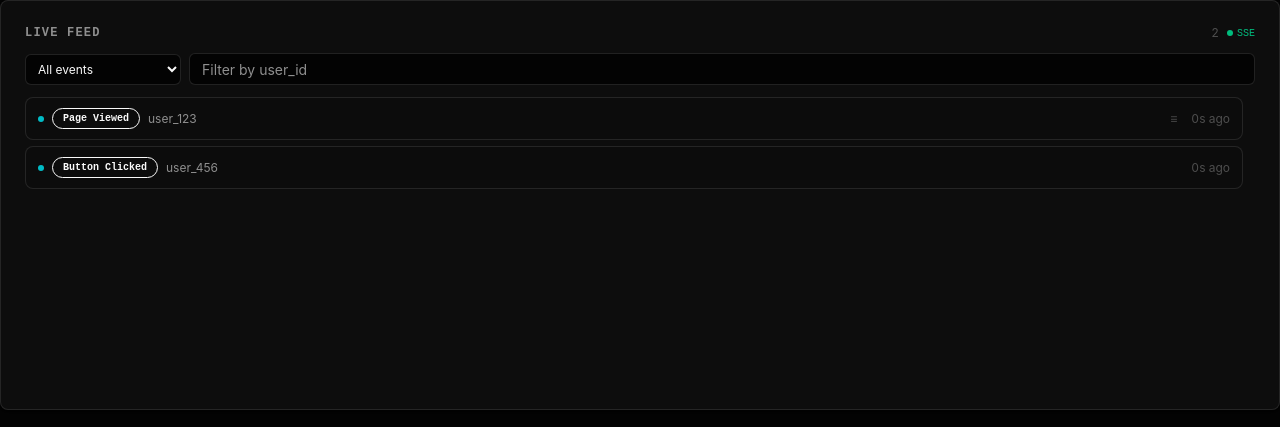
Scenario: EventFeed › collapses properties when toggle button is clicked again
The image size is (1280, 427).
Click the button named "Toggle properties".
click(1174, 118)  # box [1164,108,1183,128]
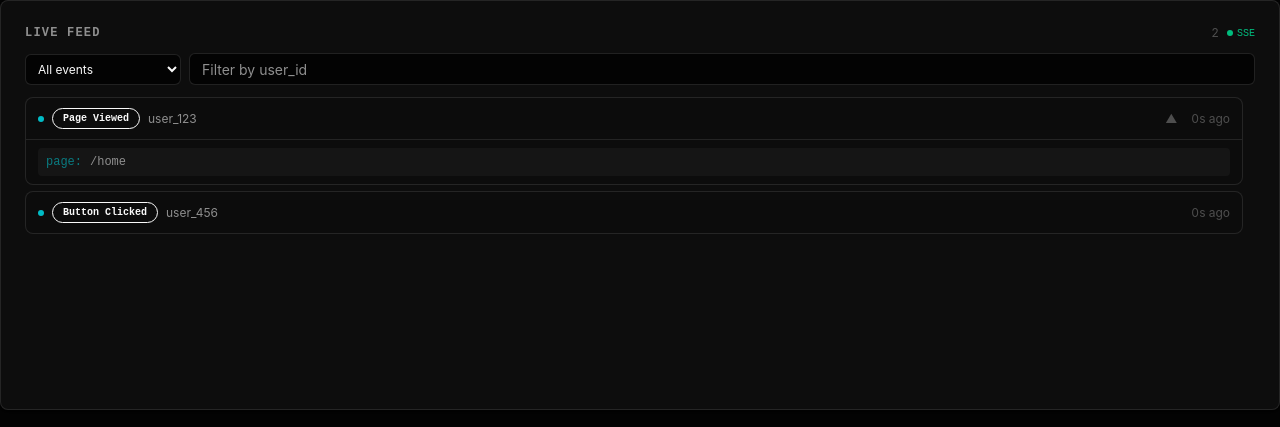
Click the button named "Toggle properties".
click(1171, 118)  # box [1159,108,1183,128]
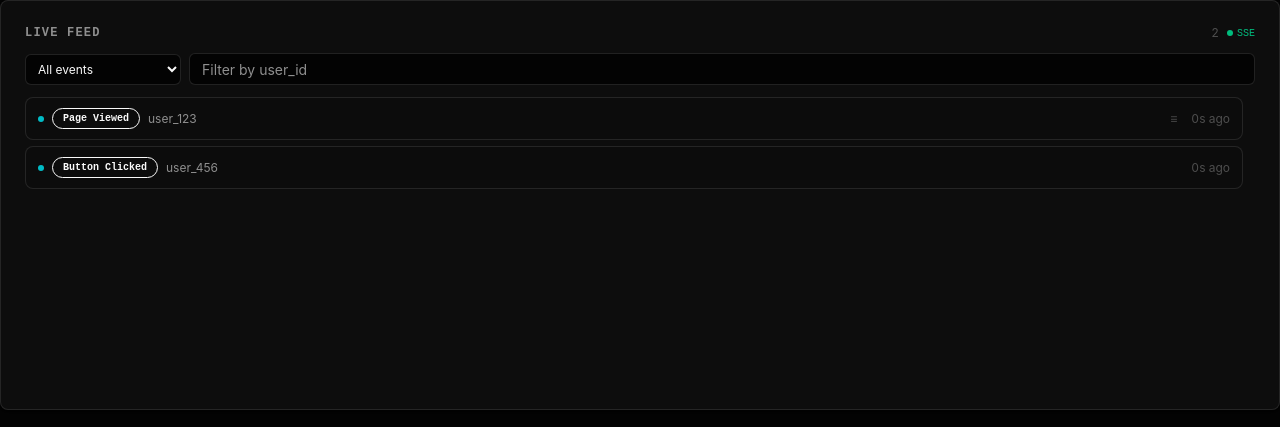
expect the text "page:" is gone: met
